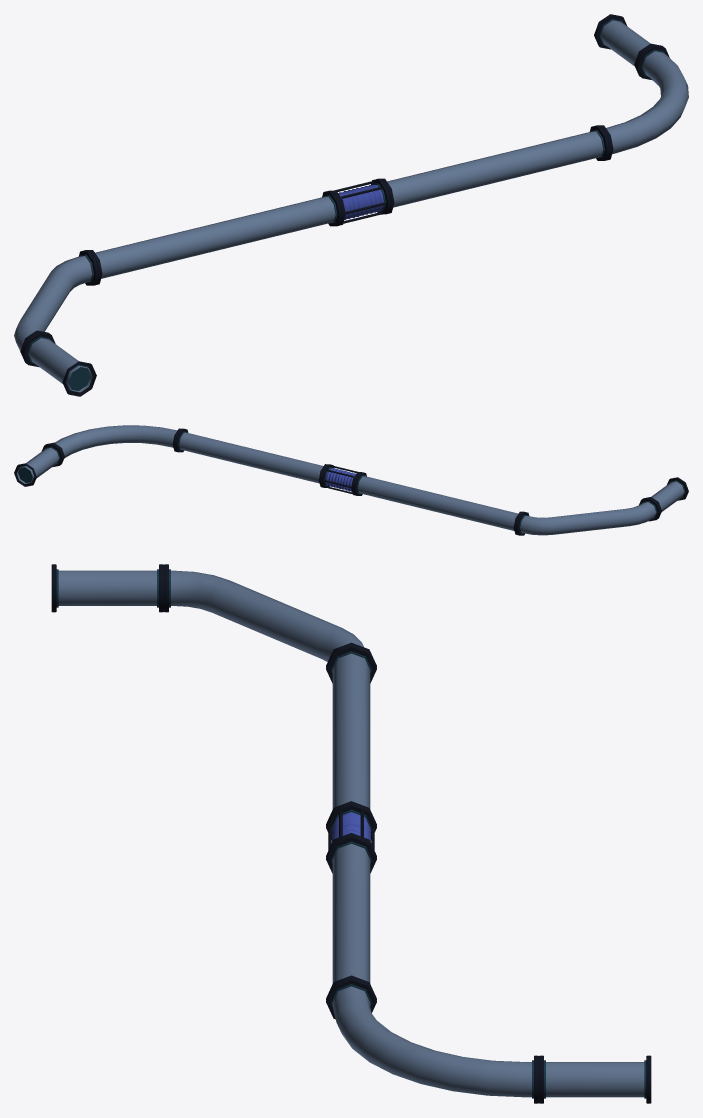
The model's file is PipeComplexSmall_A_16.fbx.
The picture shows the model from 3 angles, top to bottom: view 1: azimuth 30°, elevation 25°; view 2: azimuth 150°, elevation 25°; view 3: azimuth 270°, elevation 25°; orthographic projection. The views are drawn at different scales.
Parts seen in each view (by area): view 1: PipeComplexSmall_A_16.001; view 2: PipeComplexSmall_A_16.001; view 3: PipeComplexSmall_A_16.001.
Boxes of the visible parts, x1,y1,x2,y2 form: PipeComplexSmall_A_16.001: (14, 14, 688, 396); PipeComplexSmall_A_16.001: (14, 425, 688, 535); PipeComplexSmall_A_16.001: (51, 564, 651, 1103).
Size of the model in its own units: 3.24 by 0.1356 by 1.6.
